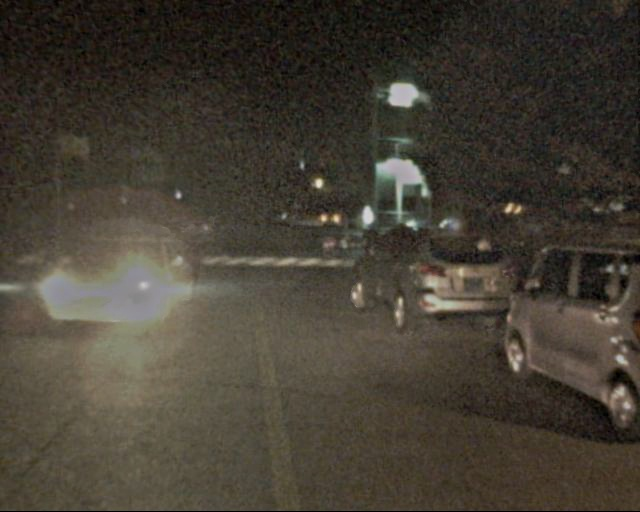person: (356, 221, 380, 280), (123, 213, 145, 266)
